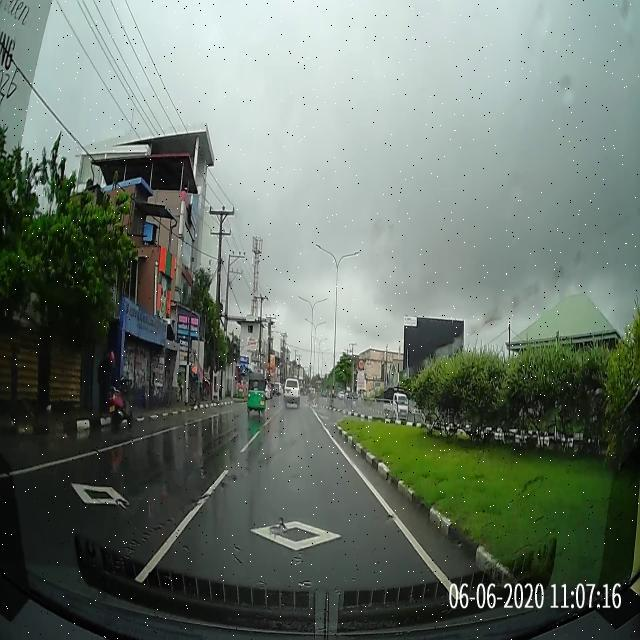diamond: (165, 509, 428, 556)
